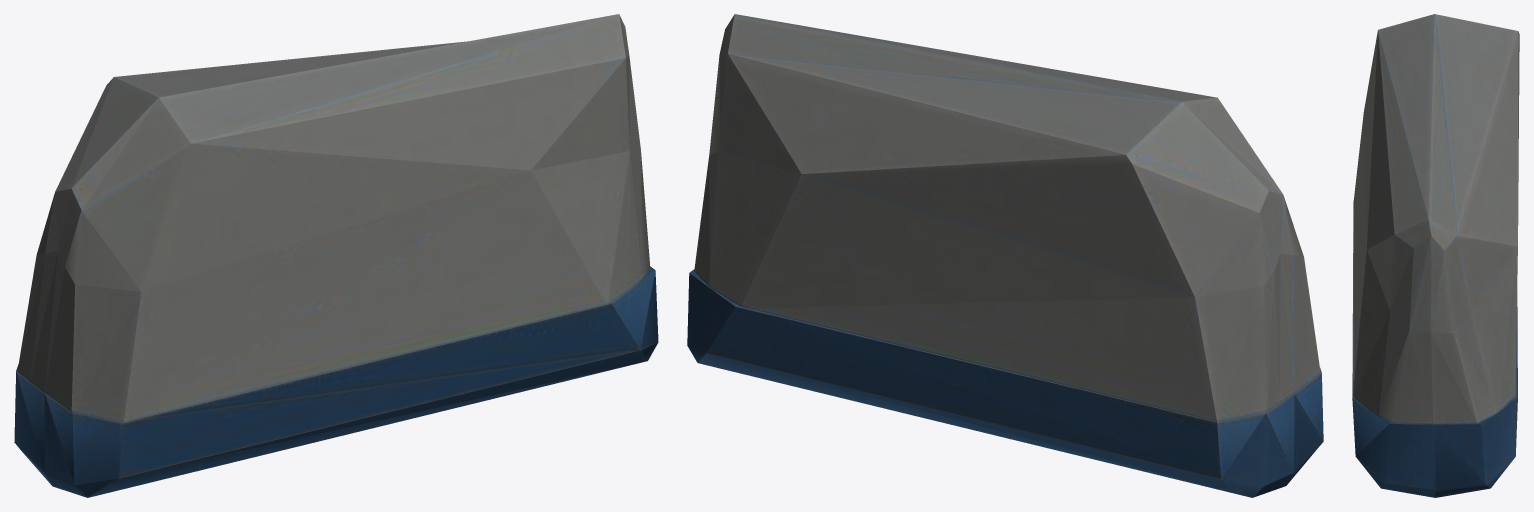
Rendered from shoulder_silverguard.glb.
The picture shows the model from 3 angles, left to right: view 1: azimuth 30°, elevation 25°; view 2: azimuth 150°, elevation 25°; view 3: azimuth 270°, elevation 25°; orthographic projection. The views are drawn at different scales.
Size of the model in its own units: 1 by 0.5938 by 0.2998.
Materials: 1 (1 with a texture image).
